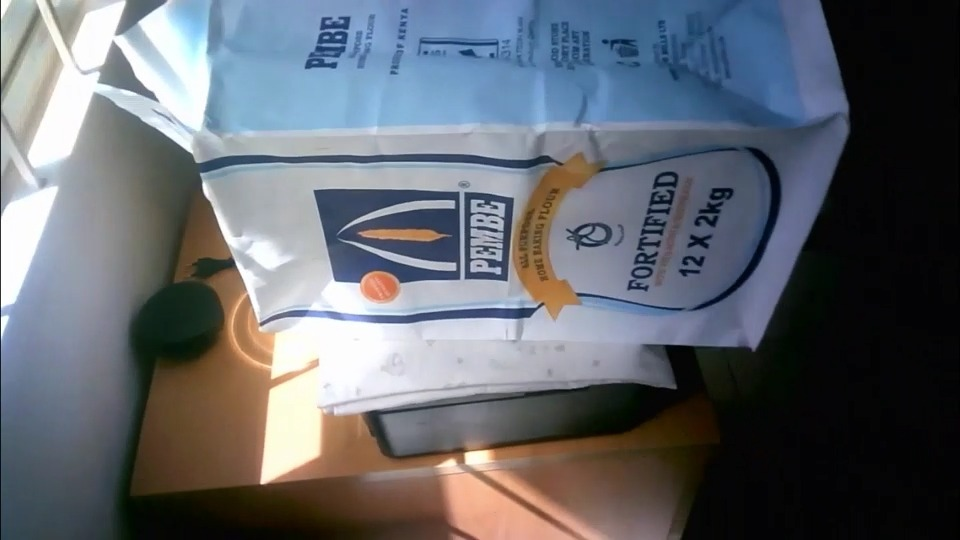wheat_flour_blue_label: (122, 2, 852, 350)
